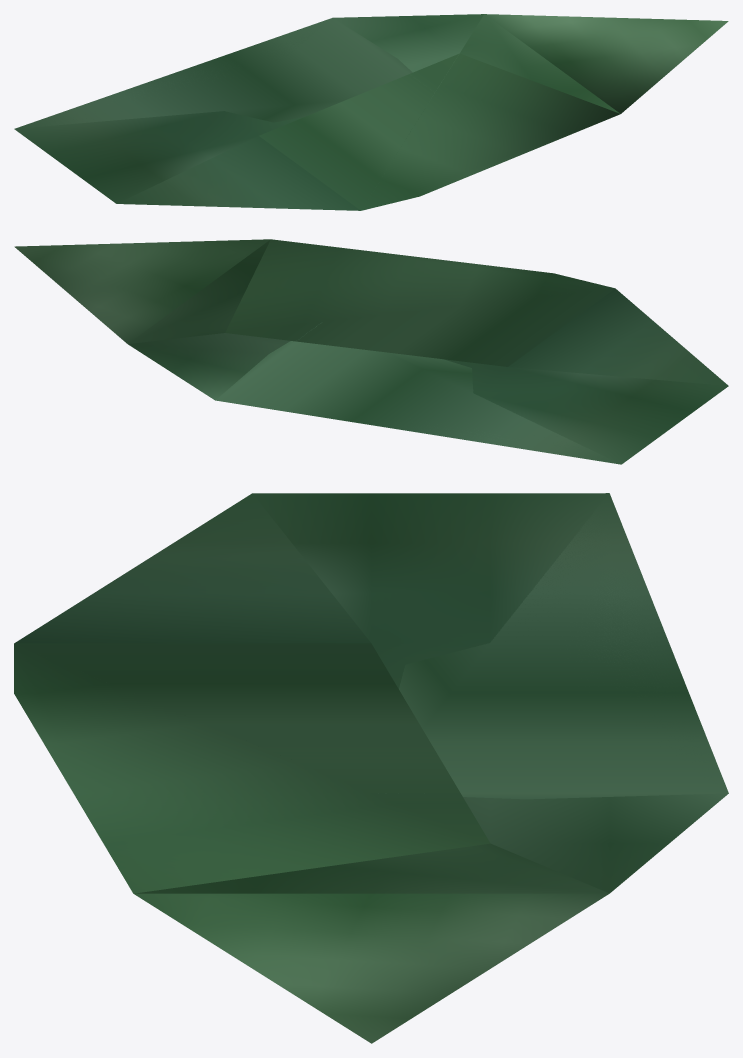
3 renders of one model, top to bottom at view 1: azimuth 30°, elevation 25°; view 2: azimuth 150°, elevation 25°; view 3: azimuth 270°, elevation 25°, orthographic. The views are drawn at different scales.
Visible parts, largest first — view 1: 30436272704361727535_0; view 2: 30436272704361727535_0; view 3: 30436272704361727535_0.
Boxes of the visible parts, x1,y1,x2,y2 form: 30436272704361727535_0: (14,14,728,210); 30436272704361727535_0: (14,239,728,464); 30436272704361727535_0: (14,493,728,1043).
Bounding box in the file's own units: 1.69 × 0.000305 × 0.9258.
1 material, 1 textured.
